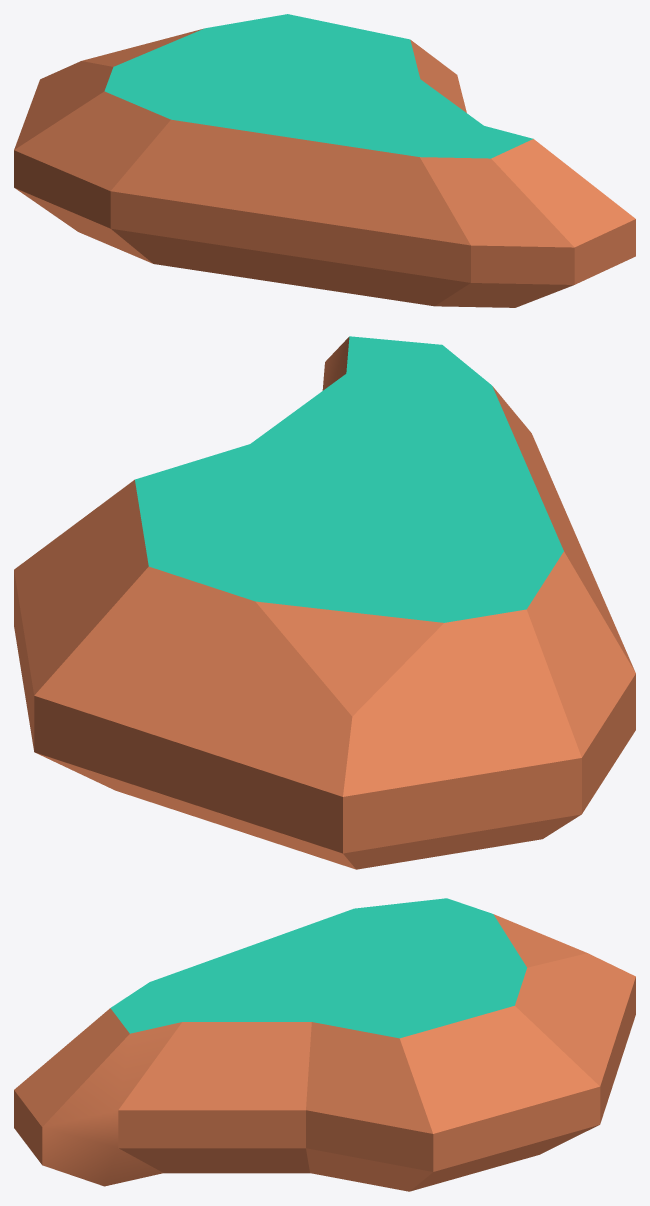
File: rock_largeA.obj
The picture shows the model from 3 angles, top to bottom: view 1: azimuth 30°, elevation 25°; view 2: azimuth 150°, elevation 25°; view 3: azimuth 270°, elevation 25°; orthographic projection. The views are drawn at different scales.
Visible parts, largest first — view 1: Mesh rock_largeA-0, Mesh rock_largeA-1; view 2: Mesh rock_largeA-0, Mesh rock_largeA-1; view 3: Mesh rock_largeA-0, Mesh rock_largeA-1.
Boxes of the visible parts, left/top/right/bottom form: Mesh rock_largeA-0: left=14, top=28, right=635, bottom=307; Mesh rock_largeA-1: left=104, top=14, right=533, bottom=158; Mesh rock_largeA-0: left=14, top=337, right=635, bottom=869; Mesh rock_largeA-1: left=135, top=336, right=563, bottom=622; Mesh rock_largeA-0: left=14, top=914, right=635, bottom=1191; Mesh rock_largeA-1: left=110, top=898, right=526, bottom=1038.
Size of the model in its own units: 0.7849 by 0.2598 by 1.02.
